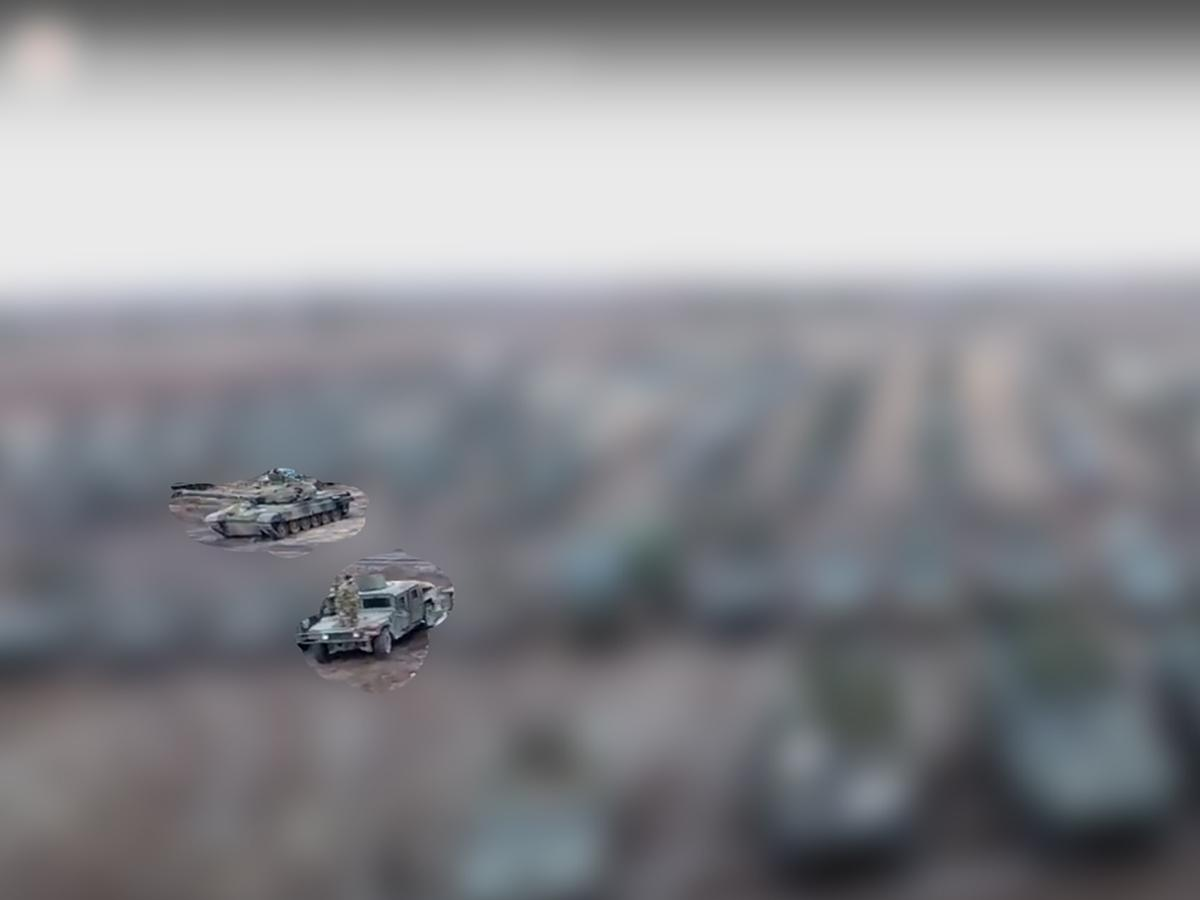armored_car: (298, 568, 444, 668)
tank: (170, 468, 356, 543)
